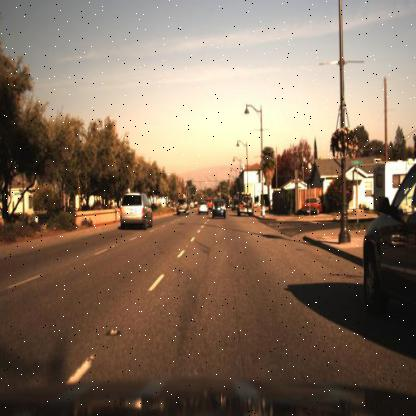car: (362, 161, 416, 326), (113, 181, 158, 232), (206, 196, 229, 225), (235, 191, 254, 220), (301, 196, 323, 218), (172, 196, 190, 220), (191, 193, 208, 217)
truck: (370, 153, 414, 217)
